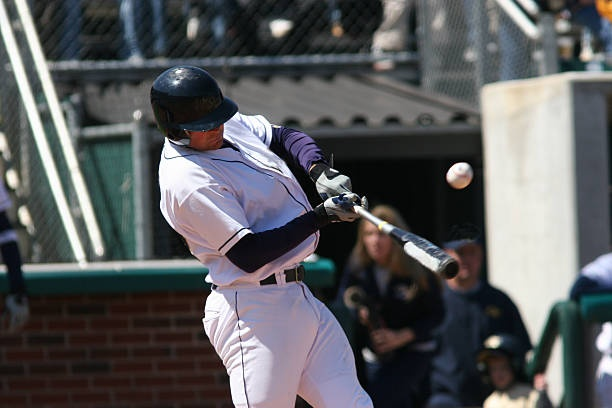bita: (337, 192, 456, 280)
